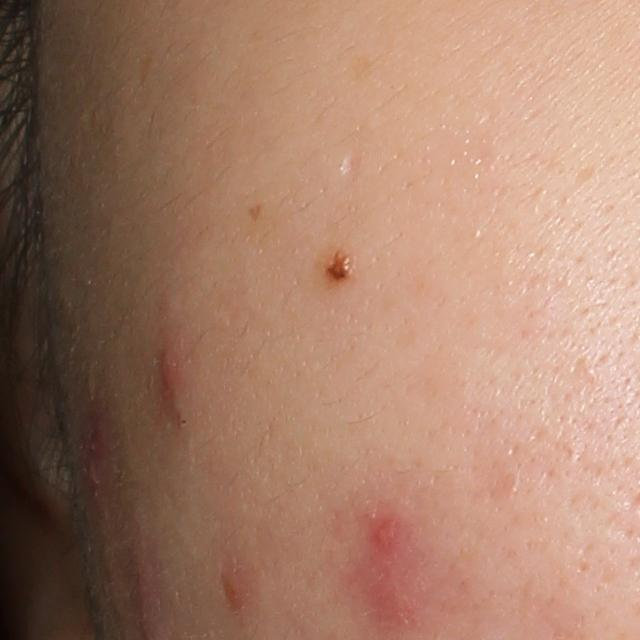nevus: (314, 239, 369, 293), (245, 201, 264, 226)
papule: (217, 550, 249, 615), (365, 506, 405, 558), (155, 343, 186, 394)
